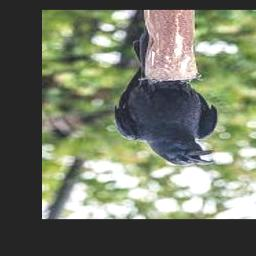Crow: (114, 27, 219, 166)
